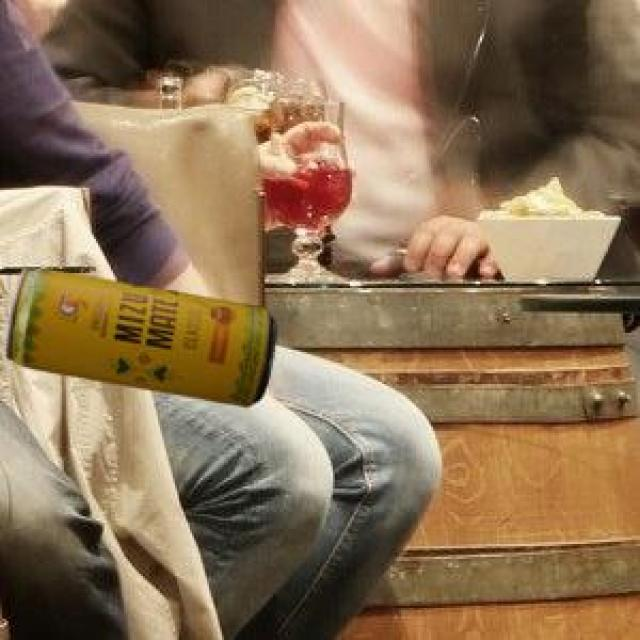logam: (3, 266, 274, 404)
